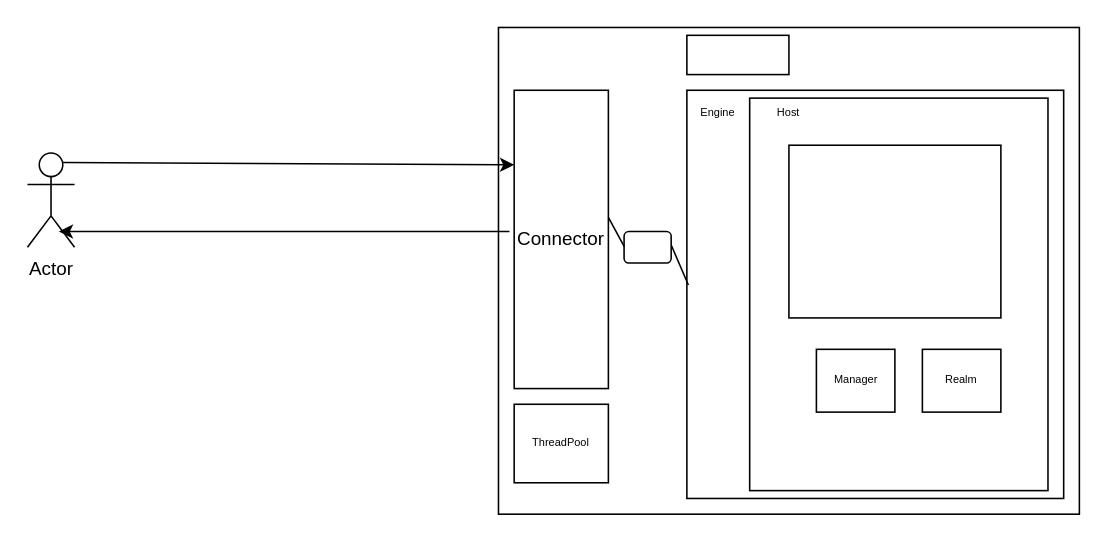
Some shapes in this 1107 by 542 pixel diagram are drawn without their labels. The box of each missing label's shape, as (x1, y1, x2, y2) in pixels:
Context: (787, 144, 1001, 318)
listener: (685, 34, 789, 75)
Valve: (623, 230, 671, 263)
